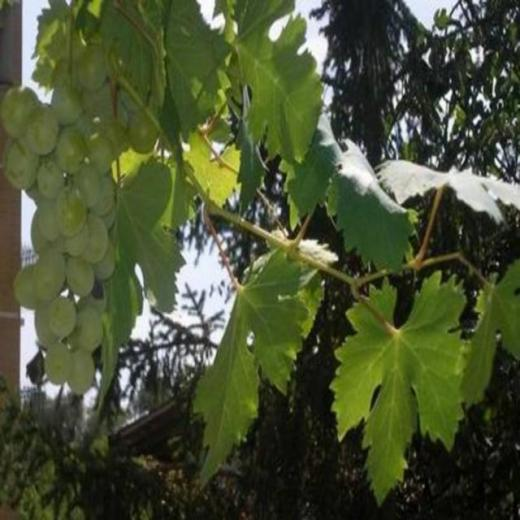Orange: (0, 46, 159, 389)
